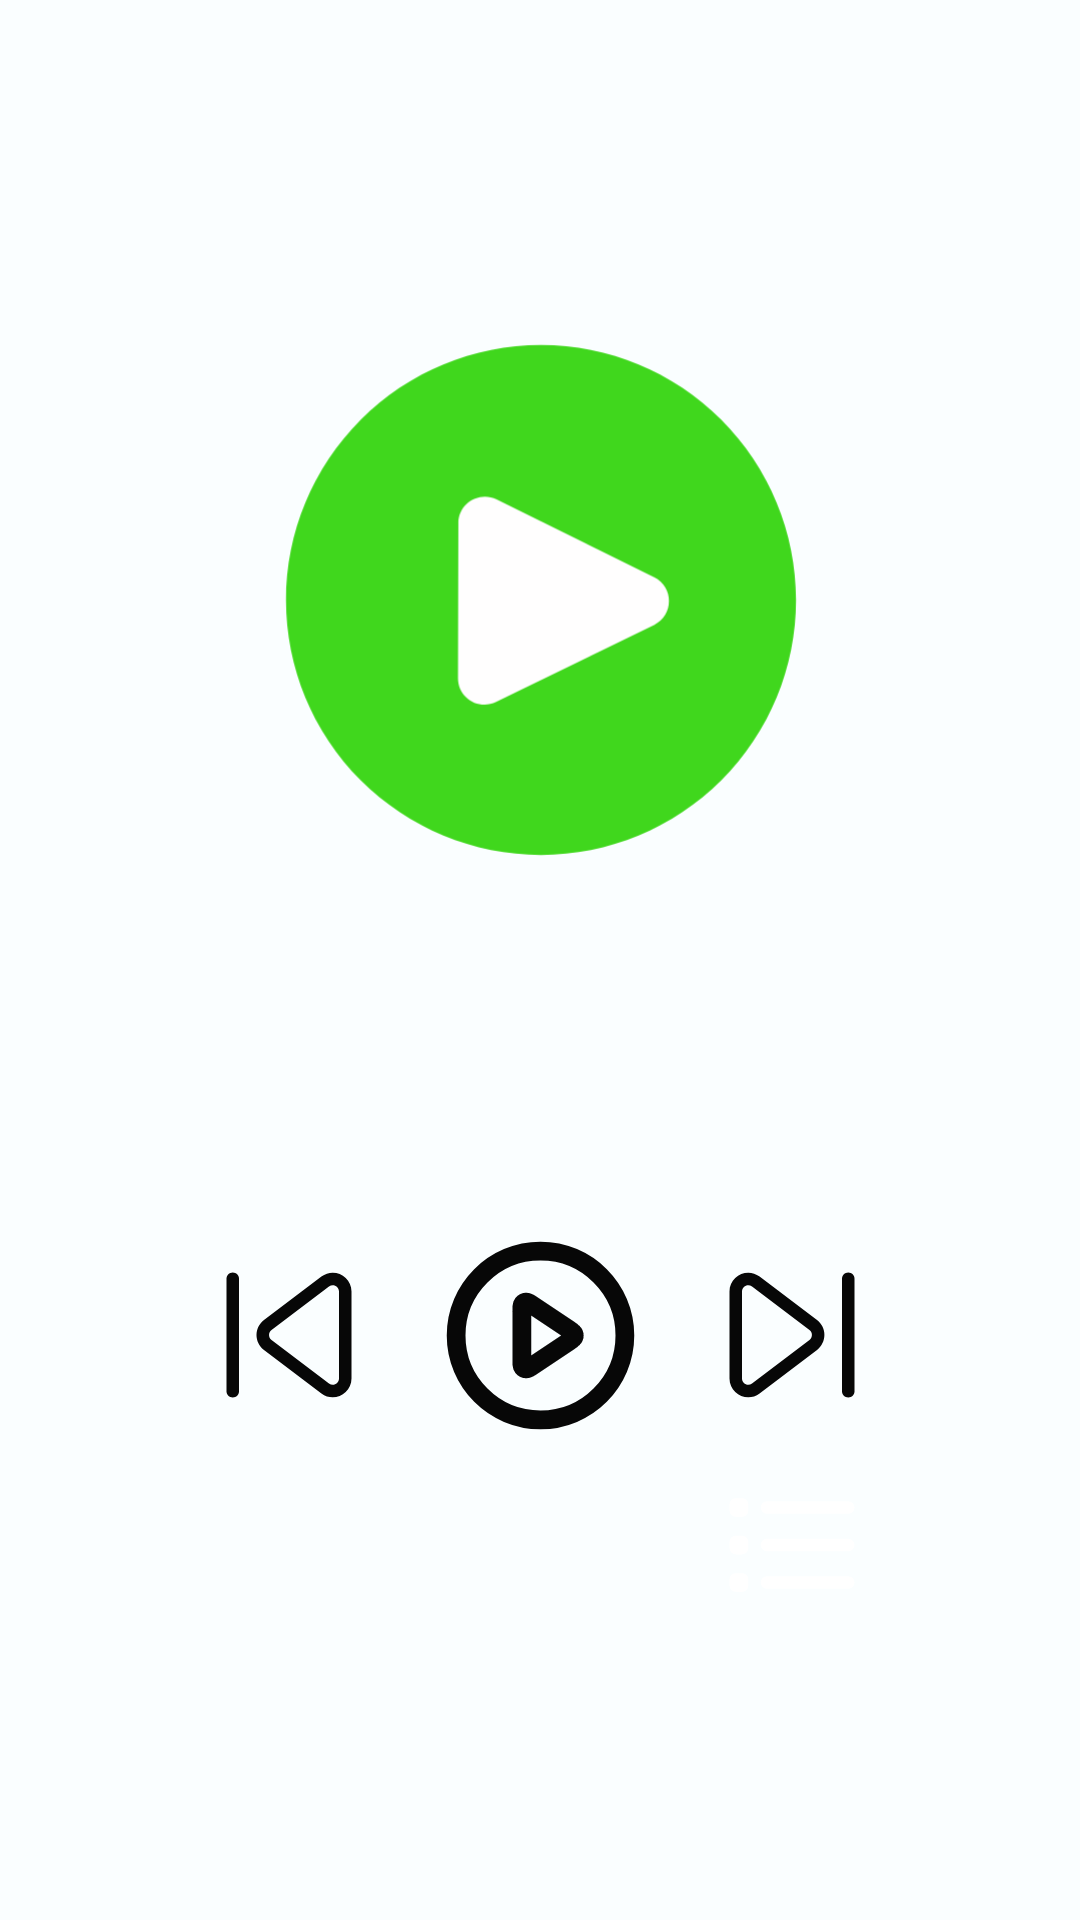

Screen size 1080 × 1920. Icon name, then its center in pixels as (x,y):
next: (792,1335)
prev: (289,1335)
